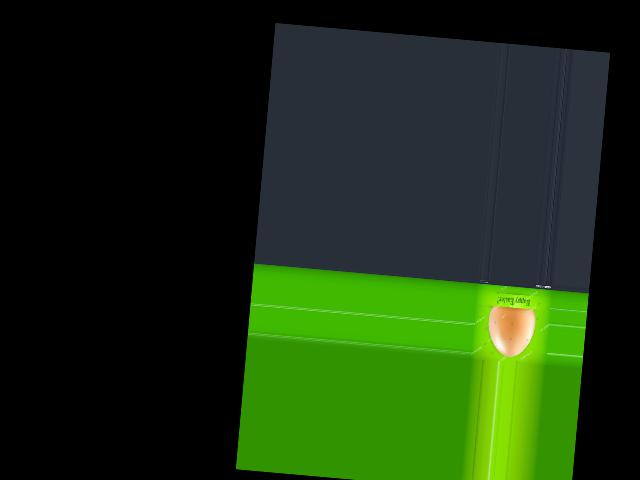egg: (485, 305, 536, 358)
